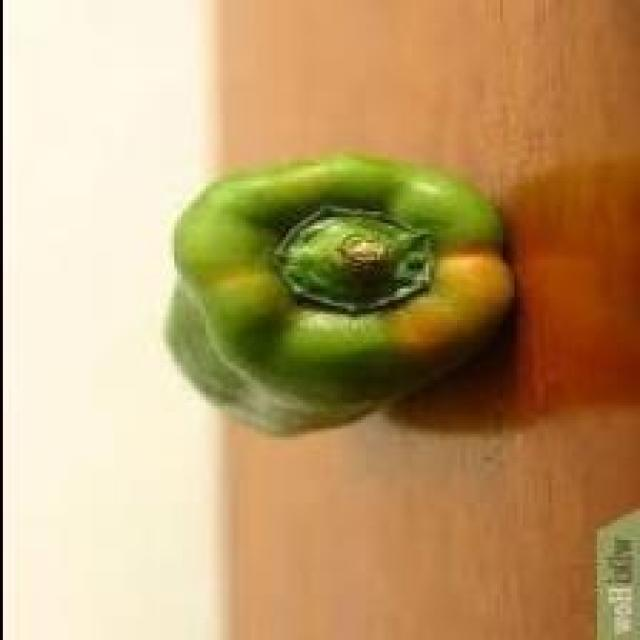Pepper: (169, 151, 514, 440)
